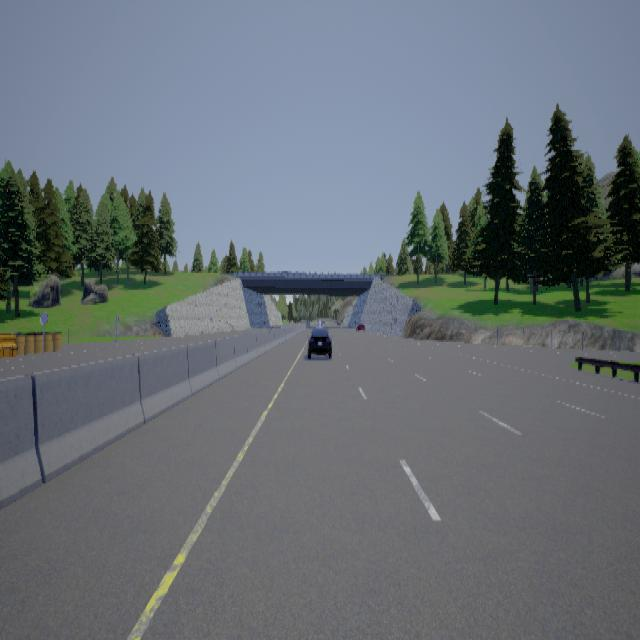traffic_sign: (38, 310, 48, 327)
vehicle: (306, 318, 332, 357)
